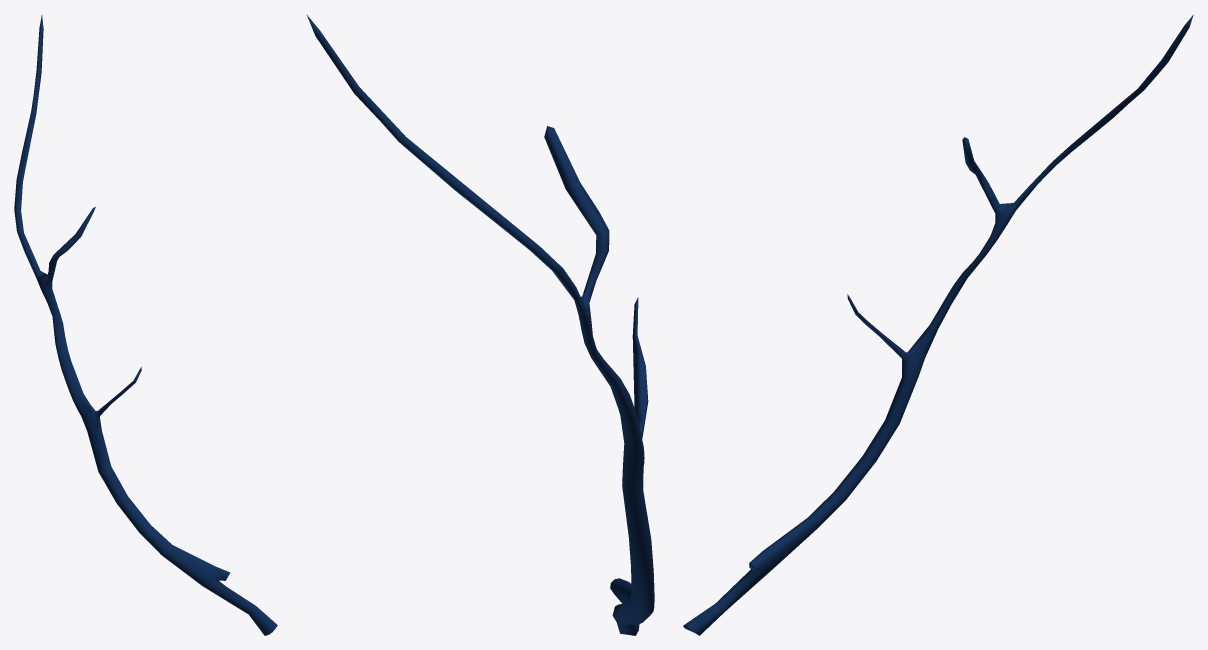
File: R vena subscapularis.fbx
3 renders of one model, left to right at view 1: azimuth 30°, elevation 25°; view 2: azimuth 150°, elevation 25°; view 3: azimuth 270°, elevation 25°, orthographic. The views are drawn at different scales.
Visible parts, largest first — view 1: R vena subscapularis, R vena subscapularis low; view 2: R vena subscapularis, R vena subscapularis low; view 3: R vena subscapularis, R vena subscapularis low.
Boxes of the visible parts, bbox=[...] form: R vena subscapularis: bbox=[14, 15, 277, 635]; R vena subscapularis low: bbox=[15, 71, 274, 631]; R vena subscapularis: bbox=[306, 14, 654, 635]; R vena subscapularis low: bbox=[356, 88, 652, 631]; R vena subscapularis: bbox=[683, 14, 1193, 635]; R vena subscapularis low: bbox=[683, 61, 1162, 632].
Size of the model in its own units: 3.28 by 13.18 by 10.09.
